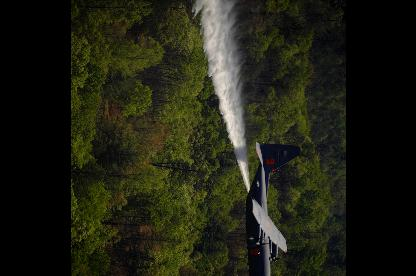Be200: (245, 140, 301, 273)
